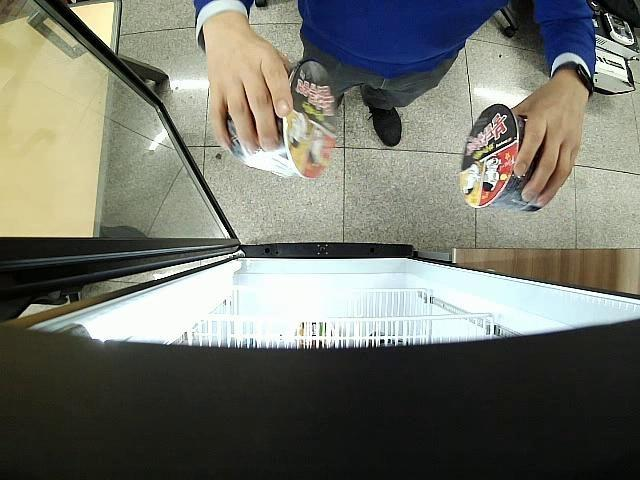07_buldak_L: (228, 61, 338, 178), (459, 103, 544, 212)
